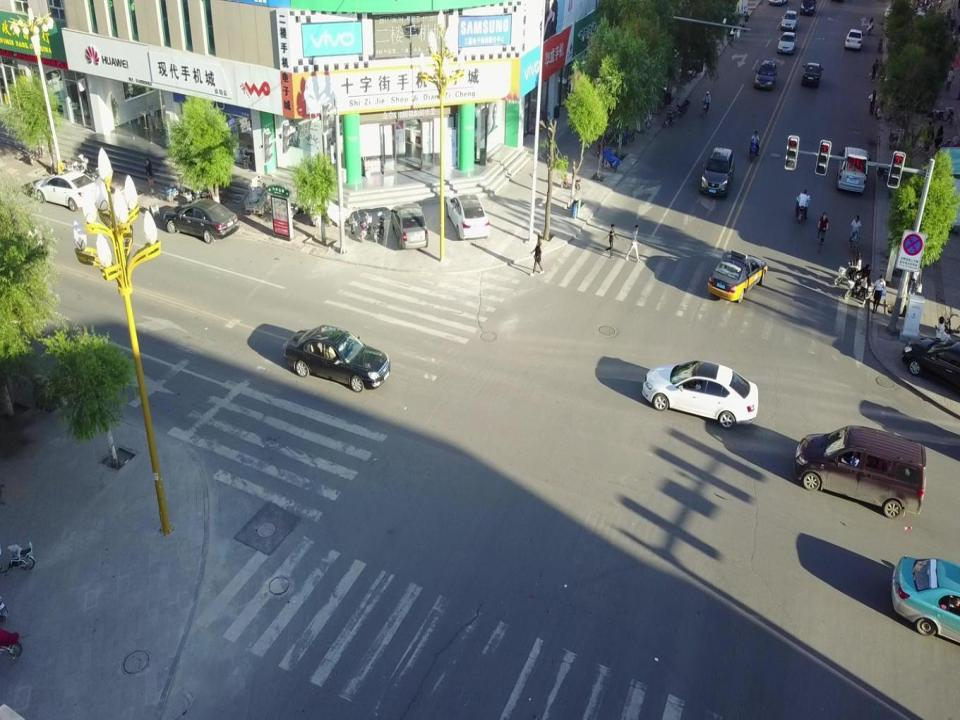car: (790, 424, 934, 518), (642, 360, 758, 425), (284, 324, 392, 390), (891, 544, 960, 637), (162, 198, 243, 244), (706, 250, 770, 302), (32, 171, 101, 211), (900, 332, 960, 376), (446, 191, 492, 240), (390, 200, 430, 250), (700, 146, 734, 196), (649, 46, 704, 76), (753, 58, 777, 88), (801, 60, 823, 83), (777, 31, 798, 52), (779, 9, 799, 31), (653, 84, 671, 108), (844, 28, 865, 48), (801, 0, 816, 14)
van: (835, 145, 870, 192)
